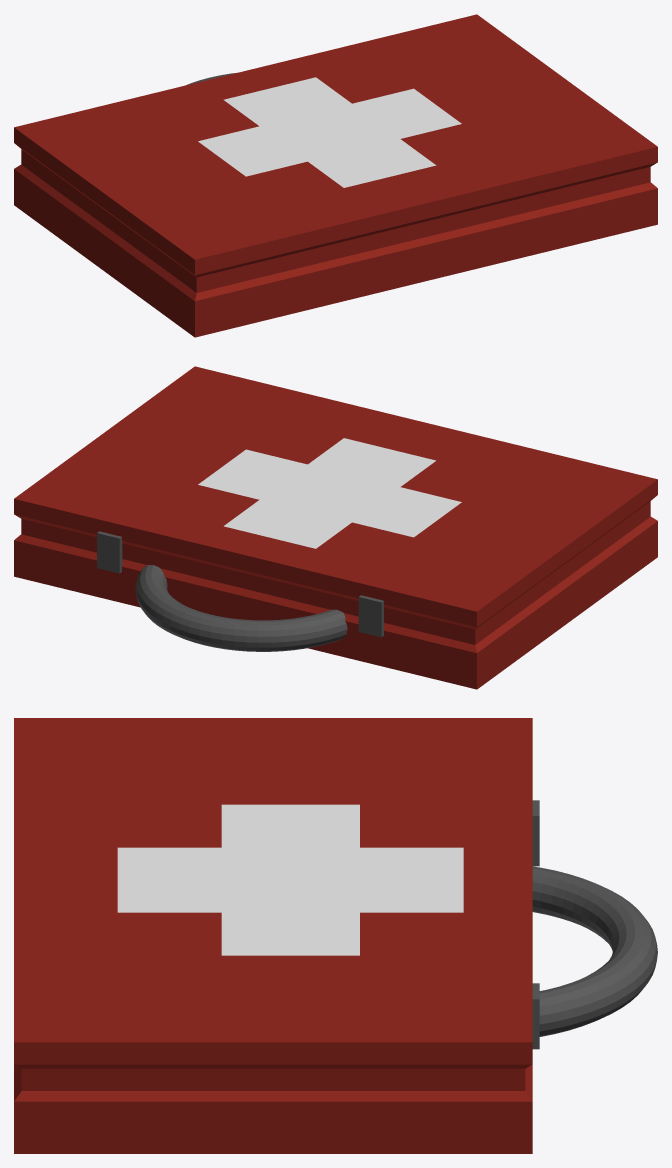
The model's file is MedKit.fbx.
3 renders of one model, top to bottom at view 1: azimuth 30°, elevation 25°; view 2: azimuth 150°, elevation 25°; view 3: azimuth 270°, elevation 25°, orthographic. The views are drawn at different scales.
Visible parts, largest first — view 1: Cube; view 2: Cube, Torus.001, Cube.002, Cube.001; view 3: Cube, Torus.001.
Part boxes in pixels (<box>): Cube: <box>14,14,657,337</box>; Cube: <box>14,366,657,689</box>; Torus.001: <box>135,564,347,651</box>; Cube.002: <box>358,595,383,637</box>; Cube.001: <box>97,531,122,573</box>; Cube: <box>14,718,532,1153</box>; Torus.001: <box>532,866,657,1036</box>.
Bounding box in the file's own units: 508 × 81.61 × 427.
